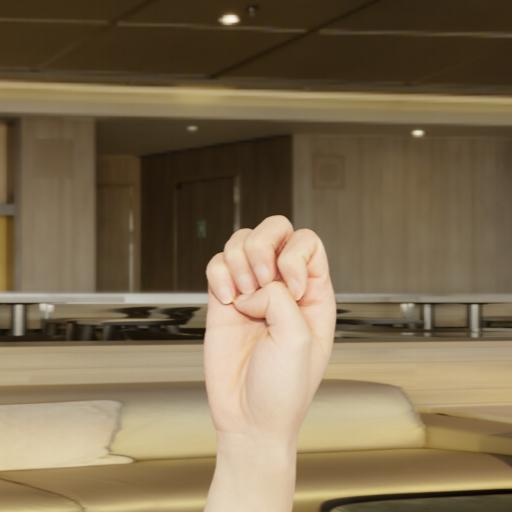E: (198, 211, 338, 434)
